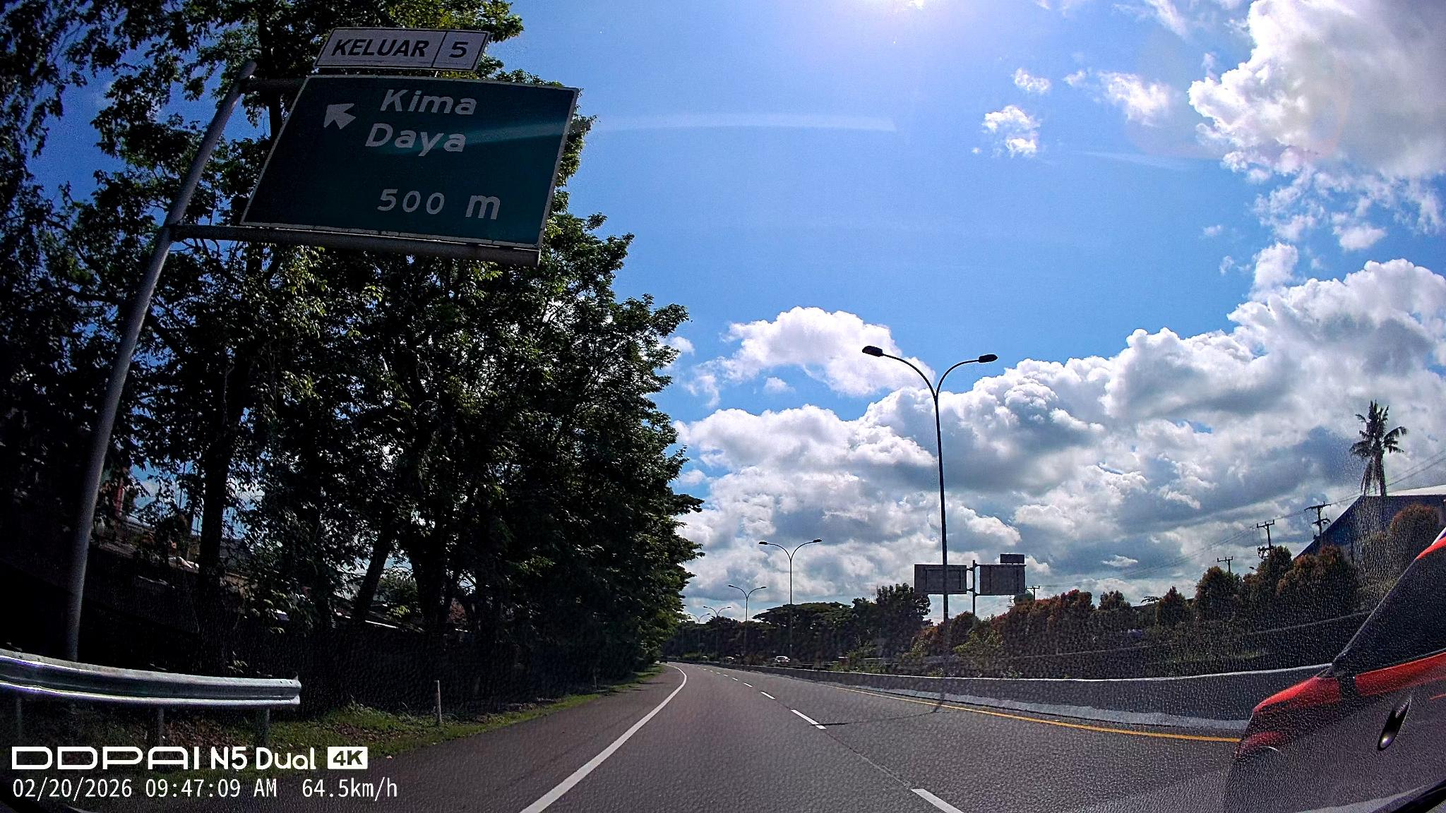rambu_teks: (233, 70, 583, 249)
